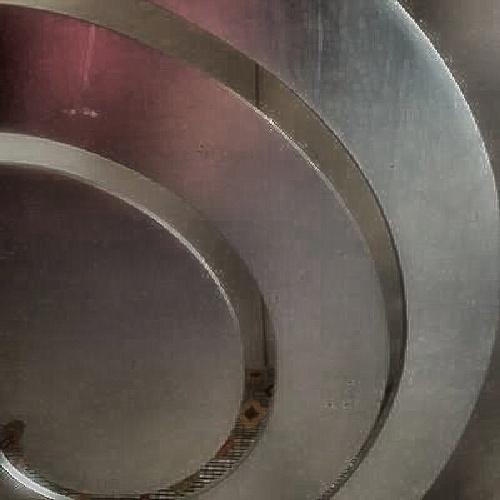chair: (23, 12, 462, 487)
